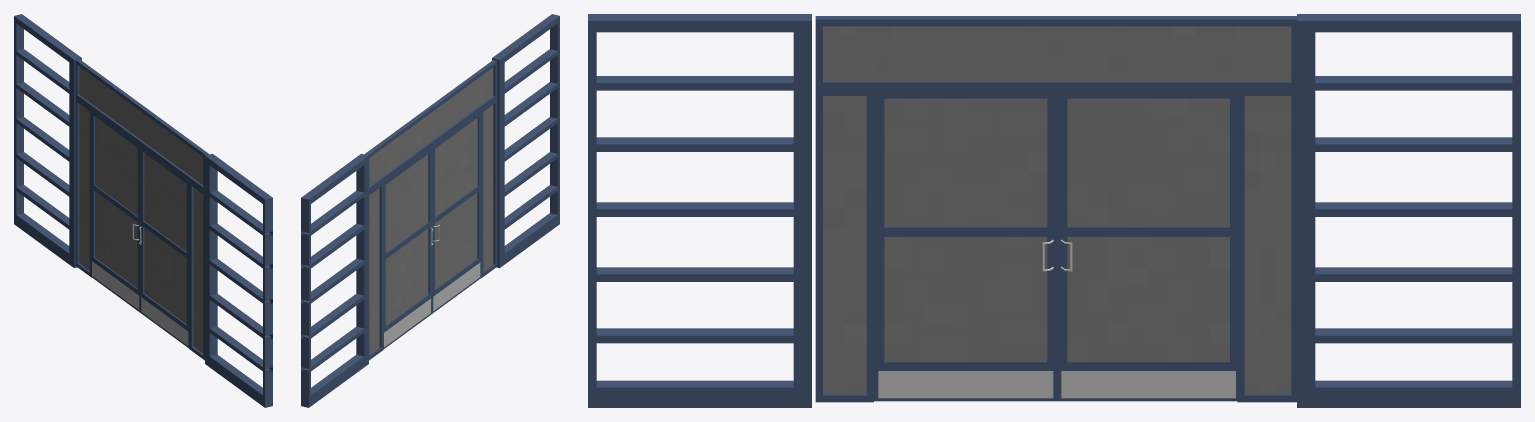
Rendered from SW_corridor__R_lobby_r-aula_karmi_002.FBX.
The picture shows the model from 3 angles, left to right: view 1: azimuth 30°, elevation 25°; view 2: azimuth 150°, elevation 25°; view 3: azimuth 270°, elevation 25°; orthographic projection. The views are drawn at different scales.
Visible parts, largest first — view 1: SW_corridor__R_lobby_r-aula_karmi_002; view 2: SW_corridor__R_lobby_r-aula_karmi_002; view 3: SW_corridor__R_lobby_r-aula_karmi_002.
Part boxes in pixels (<box>): SW_corridor__R_lobby_r-aula_karmi_002: <box>14,14,272,407</box>; SW_corridor__R_lobby_r-aula_karmi_002: <box>301,14,559,407</box>; SW_corridor__R_lobby_r-aula_karmi_002: <box>588,14,1520,407</box>.
Size of the model in its own units: 14.61 by 552 by 253.
